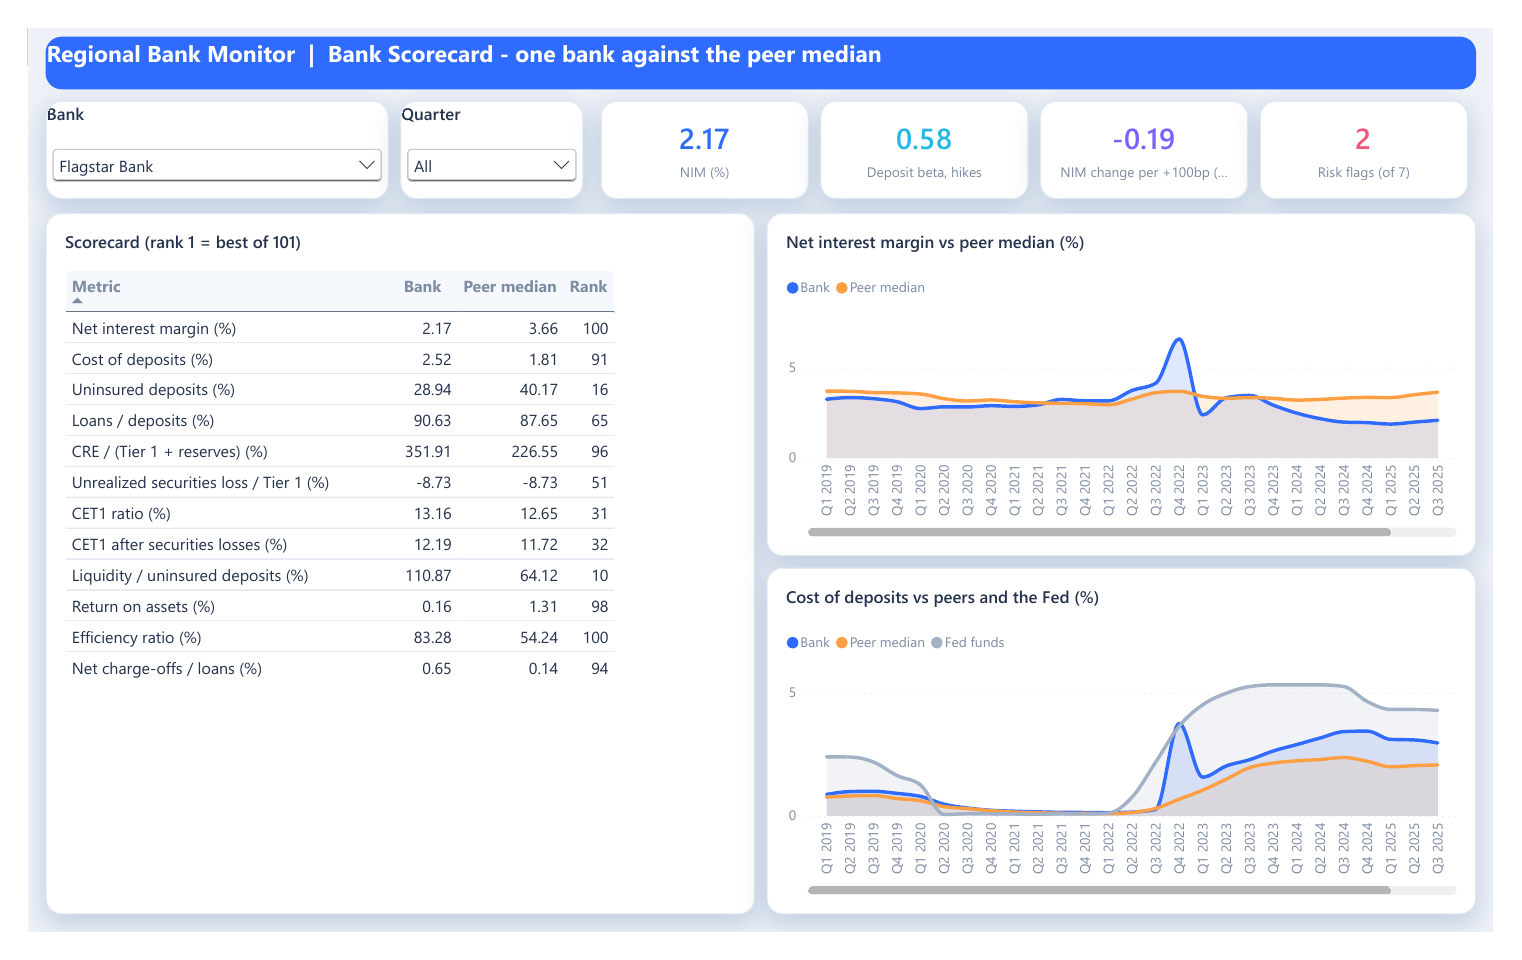

The dashboard page shown, as its layout file describes it:
{"tool":"powerbi","page":{"name":"Bank Scorecard","canvas":[1280,790],"ordinal":4},"visuals":[{"type":"textbox","box":[15,8,1250,46],"z":1000},{"type":"slicer","title":"Bank","fields":{"Values":["Banks.bank"]},"box":[15,64,300,86],"z":2000},{"type":"slicer","title":"Quarter","fields":{"Values":["Quarters.quarter"]},"box":[325,64,160,86],"z":3000},{"type":"card","fields":{"Values":["_Measures.NIM %"]},"box":[500,64,182,86],"z":4000},{"type":"card","fields":{"Values":["_Measures.Deposit Beta (Hikes)"]},"box":[692,64,182,86],"z":5000},{"type":"card","fields":{"Values":["_Measures.NIM Change per +100bp"]},"box":[884,64,182,86],"z":6000},{"type":"card","fields":{"Values":["_Measures.Risk Flags"]},"box":[1076,64,182,86],"z":7000},{"type":"tableEx","title":"Scorecard (rank 1 = best of 101)","fields":{"Values":["Metrics.metric","_Measures.Metric Value","_Measures.Metric Peer Median","_Measures.Metric Rank"]},"box":[15,162,620,613],"z":8000},{"type":"areaChart","title":"Net interest margin vs peer median (%)","fields":{"Category":["Quarters.quarter"],"Y":["_Measures.Bank NIM % by Quarter","_Measures.Peer Median NIM % by Quarter"]},"box":[645,162,620,300],"z":9000},{"type":"areaChart","title":"Cost of deposits vs peers and the Fed (%)","fields":{"Category":["Quarters.quarter"],"Y":["_Measures.Bank Cost of Deposits % by Quarter","_Measures.Peer Median Cost of Deposits % by Quarter","_Measures.Fed Funds by Quarter %"]},"box":[645,472,620,303],"z":10000}]}

Visuals, with their boxes in screenshot pixels (x1, y1, x2, y2), scaled from the page's 1280x790 canvas onto the 1522x960 screenshot:
textbox: rect(18, 10, 1504, 66)
"Bank" slicer: rect(18, 78, 375, 182)
"Quarter" slicer: rect(386, 78, 577, 182)
card - _Measures.NIM %: rect(595, 78, 811, 182)
card - _Measures.Deposit Beta (Hikes): rect(823, 78, 1039, 182)
card - _Measures.NIM Change per +100bp: rect(1051, 78, 1268, 182)
card - _Measures.Risk Flags: rect(1279, 78, 1496, 182)
"Scorecard (rank 1 = best of 101)" tableEx: rect(18, 197, 755, 942)
"Net interest margin vs peer median (%)" areaChart: rect(767, 197, 1504, 561)
"Cost of deposits vs peers and the Fed (%)" areaChart: rect(767, 574, 1504, 942)
